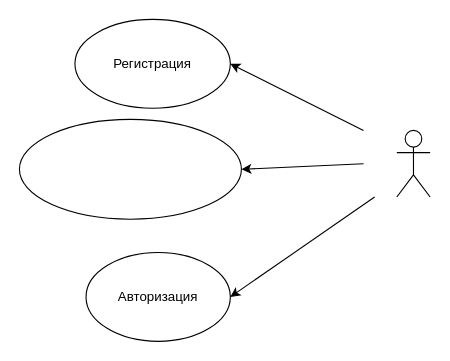
Some shapes in this 450 by 361 pixel diagram are drawn without their labels. The box of each missing label's shape, as (x1, y1, x2, y2) in pixels:
Гость: (396, 129, 430, 197)
Просмотр информации о группах и датах мероприятия: (18, 118, 241, 219)
